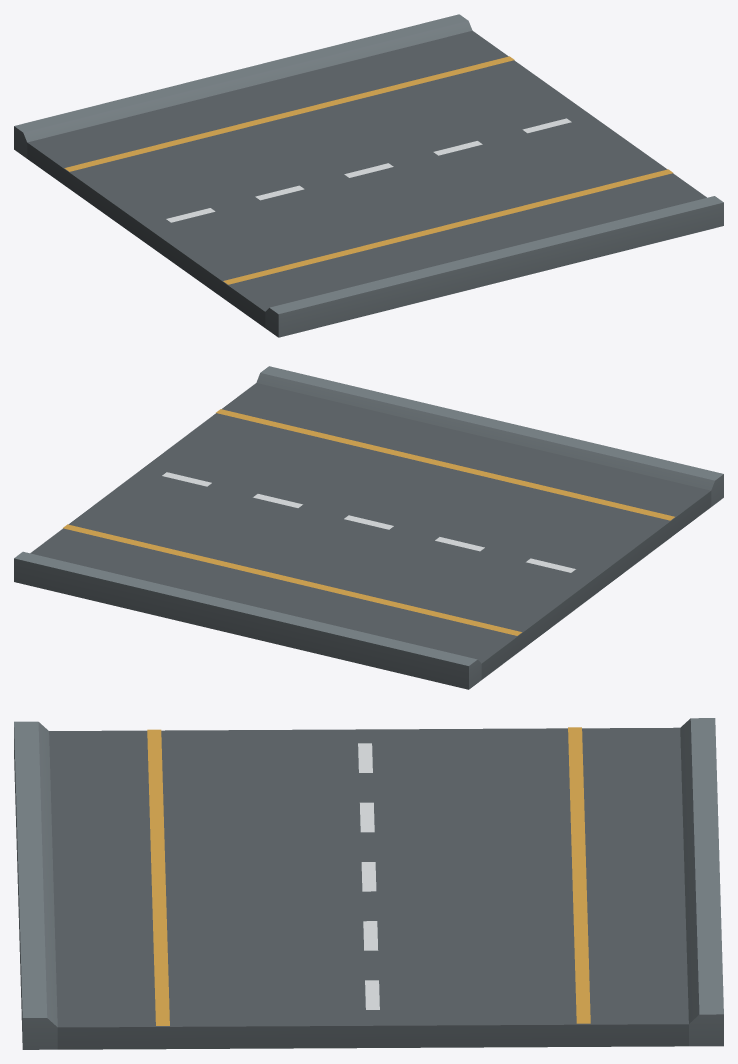
File: road_straight.008_lev3.glb
The picture shows the model from 3 angles, top to bottom: view 1: azimuth 30°, elevation 25°; view 2: azimuth 150°, elevation 25°; view 3: azimuth 270°, elevation 25°; orthographic projection. The views are drawn at different scales.
Parts seen in each view (by area): view 1: road_straight.008_lev3; view 2: road_straight.008_lev3; view 3: road_straight.008_lev3.
Boxes of the visible parts, x1,y1,x2,y2 form: road_straight.008_lev3: [14, 14, 723, 337]; road_straight.008_lev3: [14, 366, 723, 689]; road_straight.008_lev3: [14, 718, 723, 1049].
Bounding box in the file's own units: 9.01 × 0.4451 × 9.01.
1 material, 1 textured.
